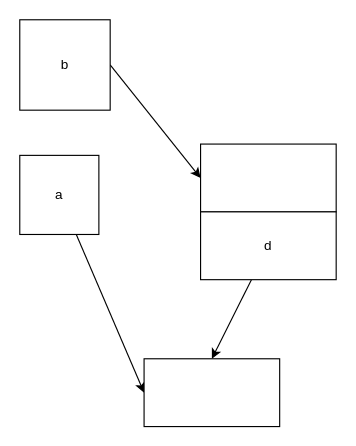
Some shapes in this 356 by 446 pixel diagram are drawn without their labels. Here are the shapes that lost their labels. From the top down, the box of each, then its label:
(199, 143, 336, 212): c: 1
(143, 358, 280, 427): c:2
